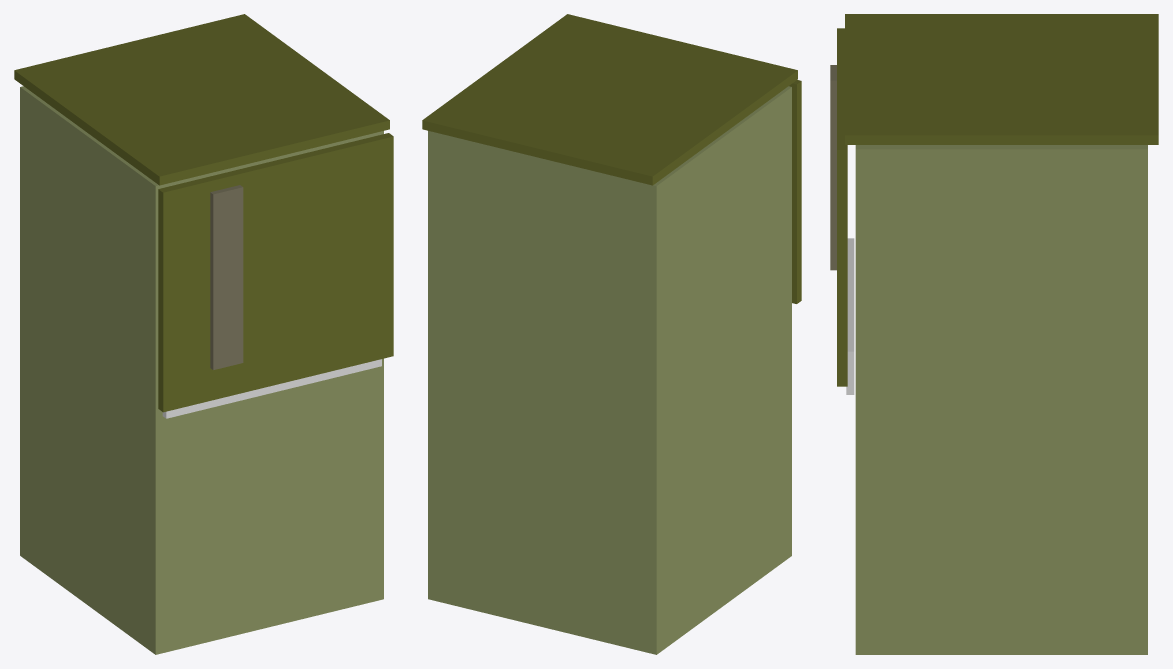
File: SM_HescoCorto1_v4_Red_e0_Sano_LOD1.fbx
3 views of the same model, side by side, from view 1: azimuth 30°, elevation 25°; view 2: azimuth 150°, elevation 25°; view 3: azimuth 270°, elevation 25° (orthographic). The views are drawn at different scales.
Visible parts, largest first — view 1: SM_hesco_piezas_v56_LOD1; view 2: SM_hesco_piezas_v56_LOD1; view 3: SM_hesco_piezas_v56_LOD1.
Part boxes in pixels (x1,y1,x2,y2): SM_hesco_piezas_v56_LOD1: [14, 14, 393, 654]; SM_hesco_piezas_v56_LOD1: [422, 14, 801, 654]; SM_hesco_piezas_v56_LOD1: [830, 14, 1158, 654].
Bounding box in the file's own units: 1.08 × 2.16 × 1.23.
